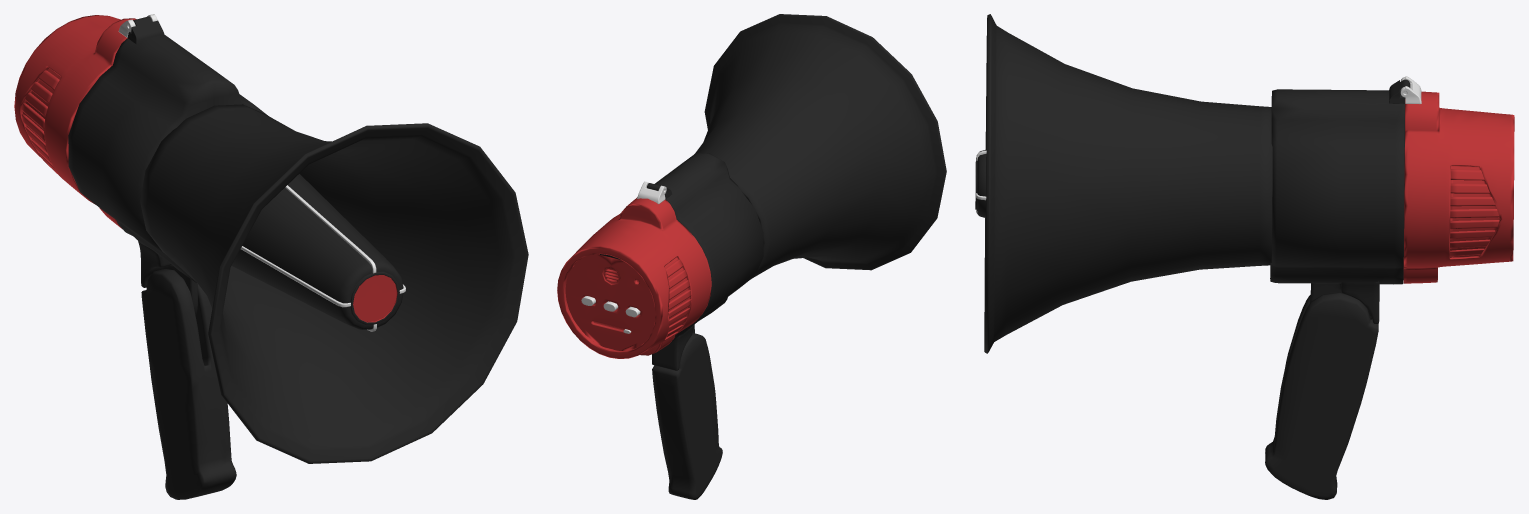
The model's file is Megaphone.glb.
3 renders of one model, left to right at view 1: azimuth 30°, elevation 25°; view 2: azimuth 150°, elevation 25°; view 3: azimuth 270°, elevation 25°, orthographic. The views are drawn at different scales.
Parts seen in each view (by area): view 1: Megaphone; view 2: Megaphone; view 3: Megaphone.
Boxes of the visible parts, <box> form: Megaphone: <box>14,14,528,499</box>; Megaphone: <box>557,14,946,499</box>; Megaphone: <box>975,14,1514,499</box>.
Bounding box in the file's own units: 0.1241 × 0.1861 × 0.1967.
